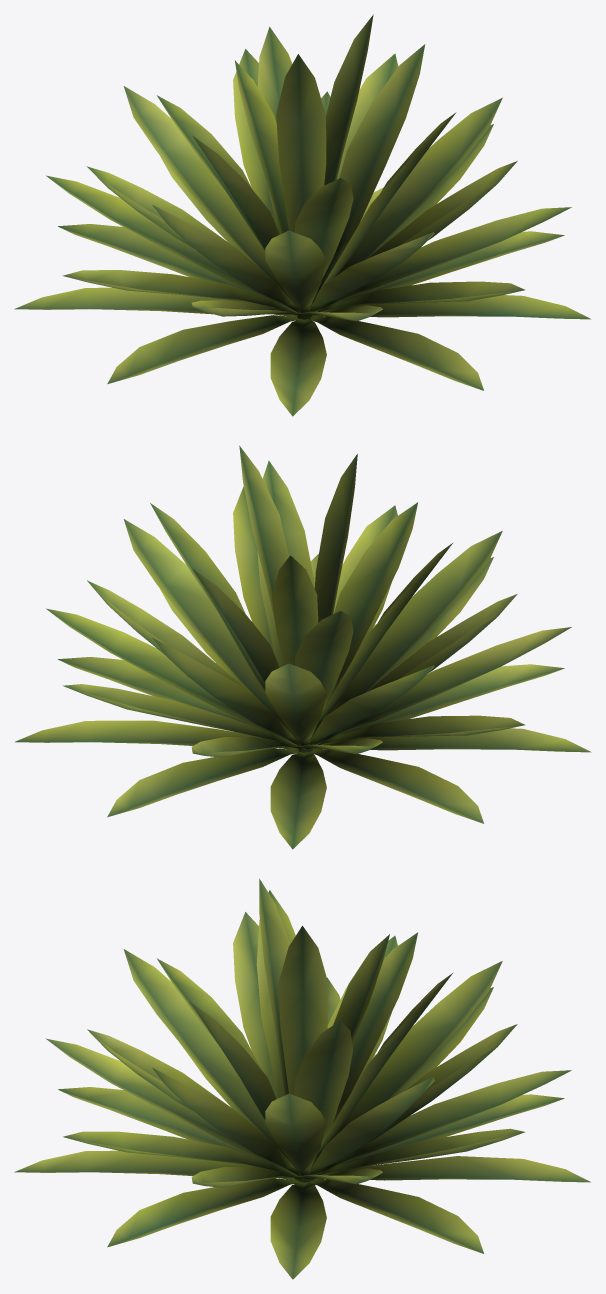
File: plants-cacti-succulents-agave_v2.glb
3 renders of one model, top to bottom at view 1: azimuth 30°, elevation 25°; view 2: azimuth 150°, elevation 25°; view 3: azimuth 270°, elevation 25°, orthographic.
Parts seen in each view (by area): view 1: Agave_v2; view 2: Agave_v2; view 3: Agave_v2.
Boxes of the visible parts, <box> form: Agave_v2: <box>14,14,590,416</box>; Agave_v2: <box>15,445,591,849</box>; Agave_v2: <box>14,878,590,1279</box>.
Size of the model in its own units: 1.19 by 0.7404 by 1.2.
